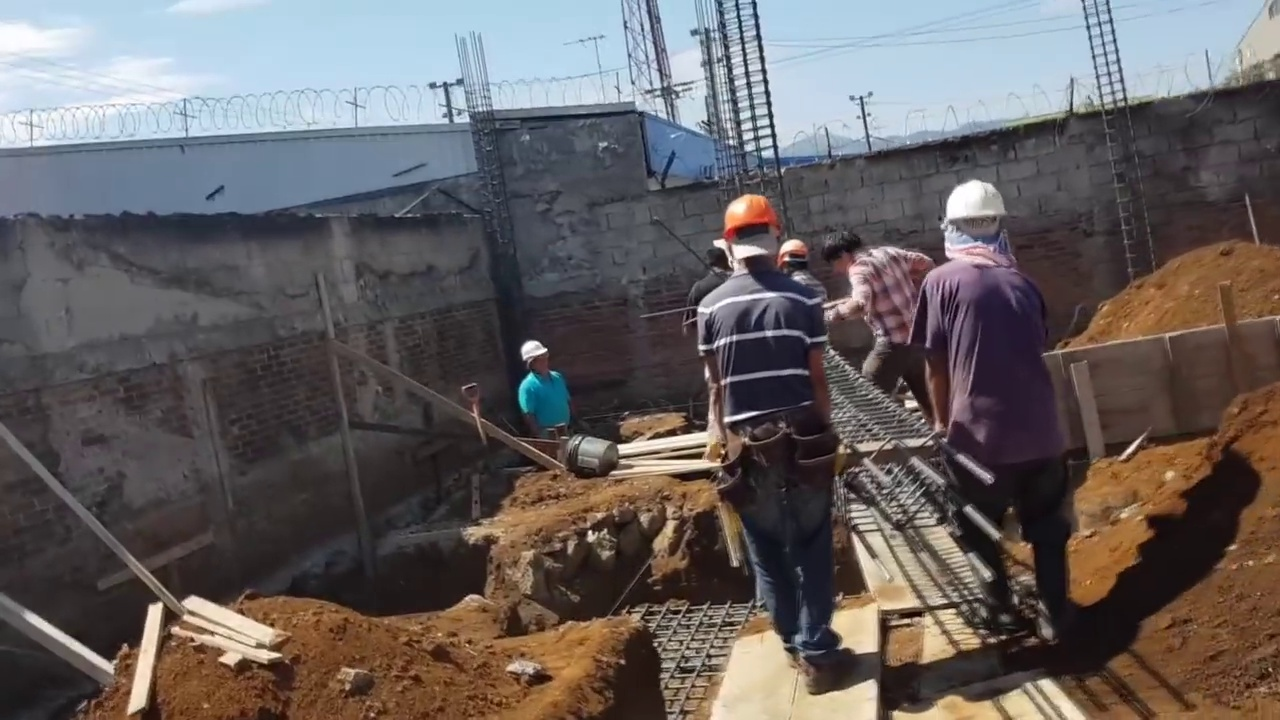helmet: (720, 193, 785, 243), (942, 179, 1009, 227), (776, 237, 811, 267), (519, 342, 547, 364)
helmet-off: (827, 233, 870, 277), (706, 243, 728, 271)
helmet-on: (945, 179, 1017, 264), (719, 197, 777, 275), (773, 237, 812, 279), (521, 342, 550, 378)
person: (877, 179, 1077, 649), (702, 194, 859, 680), (822, 229, 959, 404), (768, 253, 836, 354), (511, 342, 574, 435)
